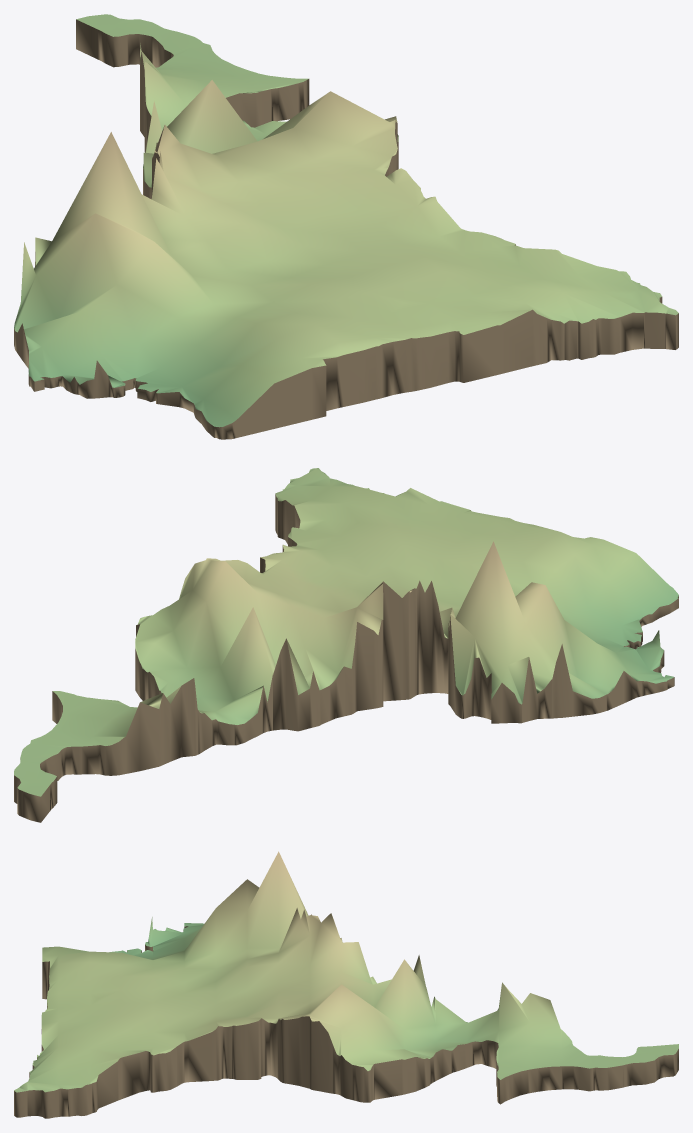
Rendered from CMR.glb.
3 views of the same model, one above another, from view 1: azimuth 30°, elevation 25°; view 2: azimuth 150°, elevation 25°; view 3: azimuth 270°, elevation 25° (orthographic). The views are drawn at different scales.
Parts seen in each view (by area): view 1: CMR; view 2: CMR; view 3: CMR.
Boxes of the visible parts, x1=… form: CMR: x1=14, y1=14, x2=678, y2=439; CMR: x1=14, y1=468, x2=678, y2=822; CMR: x1=14, y1=851, x2=678, y2=1118.
Bounding box in the file's own units: 1.06 × 0.338 × 1.58.
